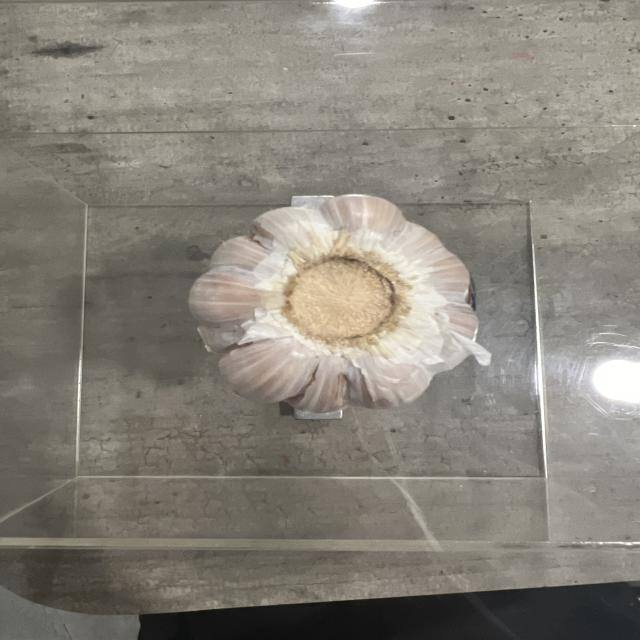garlic: (190, 196, 477, 415)
